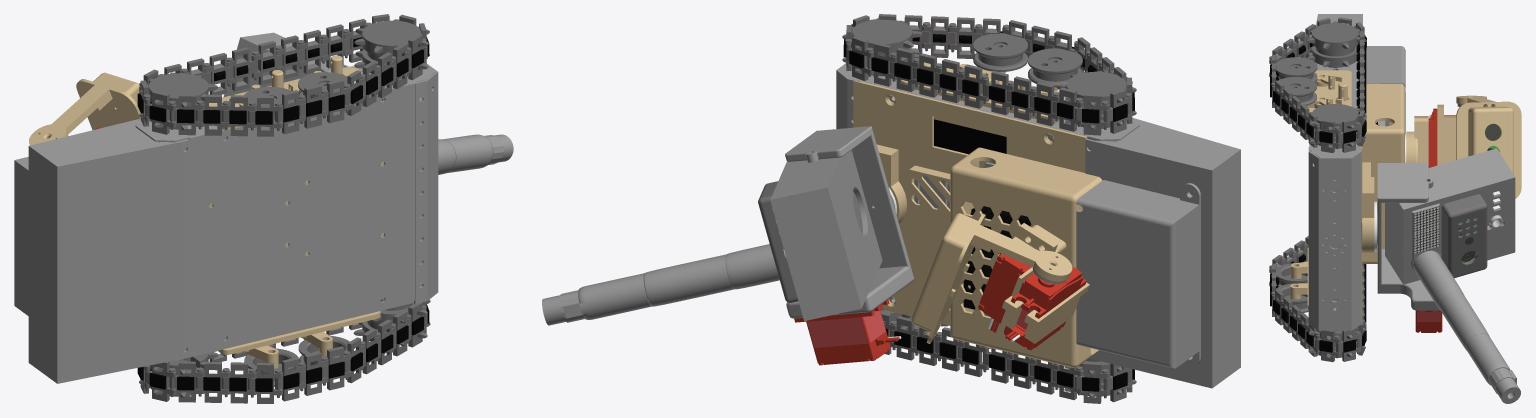
File: montage_fin_v1.fbx
The picture shows the model from 3 angles, left to right: view 1: azimuth 30°, elevation 25°; view 2: azimuth 150°, elevation 25°; view 3: azimuth 270°, elevation 25°; orthographic projection. The views are drawn at different scales.
Parts seen in each view (by area): view 1: Body1 (×39), Body40 (×4), canon, Body7, roue_tendeuse (×4), bras_tete_cam, plateforme_logi, Body3, side_d; view 2: Body1 (×25), Body7, coque_jetson, plaque_couvercle, canon, pas_impr (×3), roue_tendeuse (×2), Body40 (×2), Body2, bras_tete_cam, side_d, coque_camera_laser (+1 smaller); view 3: Body1 (×16), canon, coque_jetson, Body40 (×3), coque_camera_laser, side_d, roue_tendeuse (×4), plateforme_logi, Body7, plaque_couvercle, pas_impr (×2), Body3 (+3 smaller).
Part boxes in pixels (x1=…): Body1 (×39): x1=28, y1=19, x2=438, y2=403; Body40 (×4): x1=139, y1=20, x2=430, y2=397; canon: x1=438, y1=134, x2=513, y2=174; Body7: x1=14, y1=157, x2=28, y2=315; roue_tendeuse (×4): x1=244, y1=72, x2=349, y2=386; bras_tete_cam: x1=29, y1=85, x2=112, y2=145; plateforme_logi: x1=76, y1=79, x2=140, y2=129; Body3: x1=209, y1=55, x2=370, y2=129; side_d: x1=243, y1=34, x2=330, y2=74; Body1 (×25): x1=770, y1=16, x2=1240, y2=403; Body7: x1=1076, y1=180, x2=1200, y2=368; coque_jetson: x1=950, y1=147, x2=1102, y2=367; plaque_couvercle: x1=853, y1=81, x2=1087, y2=325; canon: x1=542, y1=244, x2=779, y2=325; pas_impr (×3): x1=794, y1=237, x2=1086, y2=365; roue_tendeuse (×2): x1=973, y1=33, x2=1082, y2=87; Body40 (×2): x1=842, y1=18, x2=1136, y2=128; Body2: x1=909, y1=165, x2=950, y2=255; bras_tete_cam: x1=971, y1=225, x2=1072, y2=281; side_d: x1=771, y1=157, x2=842, y2=200; coque_camera_laser: x1=758, y1=181, x2=798, y2=302; Body1 (×16): x1=1308, y1=14, x2=1515, y2=361; canon: x1=1413, y1=250, x2=1520, y2=403; coque_jetson: x1=1362, y1=83, x2=1404, y2=263; Body40 (×3): x1=1304, y1=23, x2=1366, y2=358; coque_camera_laser: x1=1441, y1=194, x2=1487, y2=278; side_d: x1=1397, y1=149, x2=1511, y2=211; roue_tendeuse (×4): x1=1276, y1=57, x2=1317, y2=313; plateforme_logi: x1=1456, y1=101, x2=1521, y2=198; Body7: x1=1365, y1=35, x2=1405, y2=134; plaque_couvercle: x1=1359, y1=146, x2=1374, y2=321; pas_impr (×2): x1=1415, y1=108, x2=1442, y2=332; Body3: x1=1308, y1=70, x2=1351, y2=112.
Size of the model in its own units: 387 by 197 by 188.
